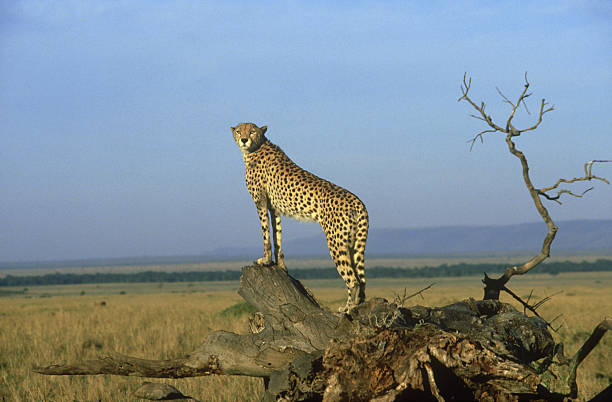cheetah: (228, 119, 270, 154)
